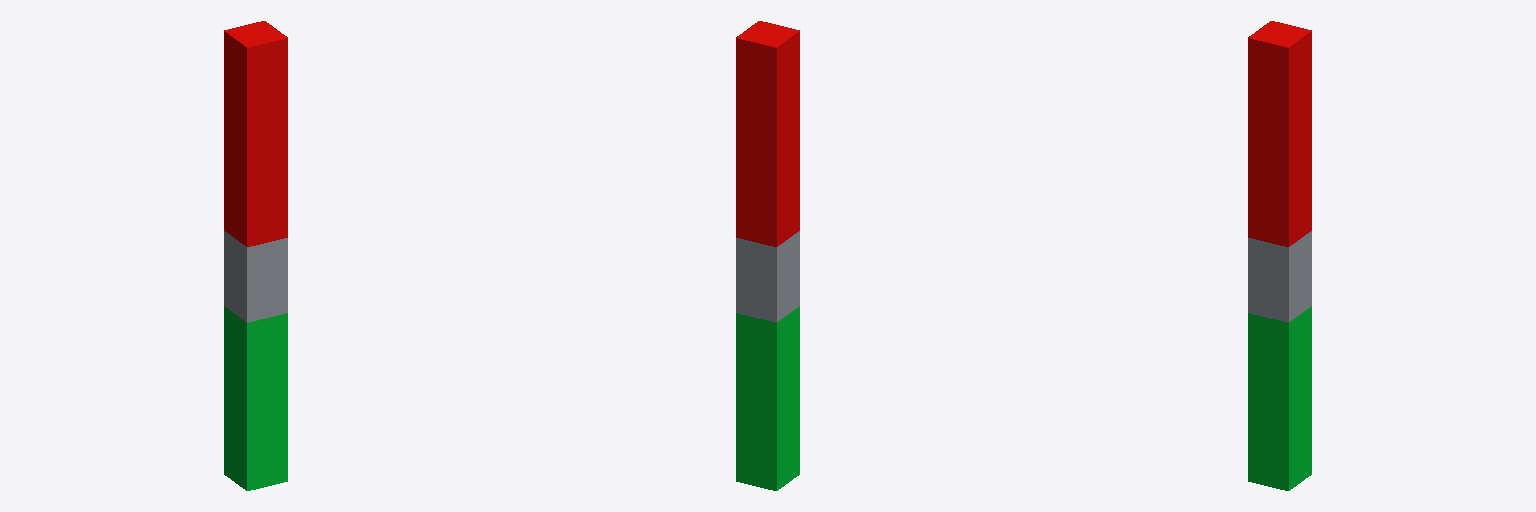
The robot description file, URDF, robot "simtoolreal_falling_baton_affordance":
<?xml version="1.0"?>
<robot name="simtoolreal_falling_baton_affordance">
  <material name="aff_positive">
    <color rgba="0.050 0.780 0.250 1.000"/>
  </material>
  <material name="aff_negative">
    <color rgba="0.920 0.070 0.050 1.000"/>
  </material>
  <material name="aff_neutral">
    <color rgba="0.620 0.640 0.660 1.000"/>
  </material>

  <link name="baton">
    <inertial>
      <origin xyz="0 0 0" rpy="0 0 0"/>
      <mass value="0.015"/>
      <inertia ixx="0.000034351" ixy="0.0" ixz="0.0" iyy="0.000034351" iyz="0.0" izz="0.000000640"/>
    </inertial>

    <visual name="positive_handle">
      <origin xyz="0 0 -0.05115" rpy="0 0 0"/>
      <geometry>
        <box size="0.016 0.016 0.0627"/>
      </geometry>
      <material name="aff_positive"/>
    </visual>
    <collision name="positive_handle_collision">
      <origin xyz="0 0 -0.05115" rpy="0 0 0"/>
      <geometry>
        <box size="0.016 0.016 0.0627"/>
      </geometry>
    </collision>

    <visual name="neutral_gap">
      <origin xyz="0 0 -0.005775" rpy="0 0 0"/>
      <geometry>
        <box size="0.016 0.016 0.02805"/>
      </geometry>
      <material name="aff_neutral"/>
    </visual>
    <collision name="neutral_gap_collision">
      <origin xyz="0 0 -0.005775" rpy="0 0 0"/>
      <geometry>
        <box size="0.016 0.016 0.02805"/>
      </geometry>
    </collision>

    <visual name="negative_tip">
      <origin xyz="0 0 0.045375" rpy="0 0 0"/>
      <geometry>
        <box size="0.016 0.016 0.07425"/>
      </geometry>
      <material name="aff_negative"/>
    </visual>
    <collision name="negative_tip_collision">
      <origin xyz="0 0 0.045375" rpy="0 0 0"/>
      <geometry>
        <box size="0.016 0.016 0.07425"/>
      </geometry>
    </collision>
  </link>
</robot>

--- Render facts (derived) ---
The picture shows the robot from 3 angles, left to right: view 1: azimuth 30°, elevation 25°; view 2: azimuth 150°, elevation 25°; view 3: azimuth 330°, elevation 25°; orthographic projection.
Robot: simtoolreal_falling_baton_affordance — 1 links, 0 joints (none); root link baton; default pose: every joint at zero.
Links seen in each view (by area): view 1: baton; view 2: baton; view 3: baton.
Boxes of the visible links, x1,y1,x2,y2 form: baton: [224, 21, 287, 490]; baton: [736, 21, 799, 490]; baton: [1248, 21, 1311, 490].
Size in the robot's own frame: 0.016 by 0.016 by 0.165 metres.
Geometry: primitives only (box / cylinder / sphere), no mesh files.
